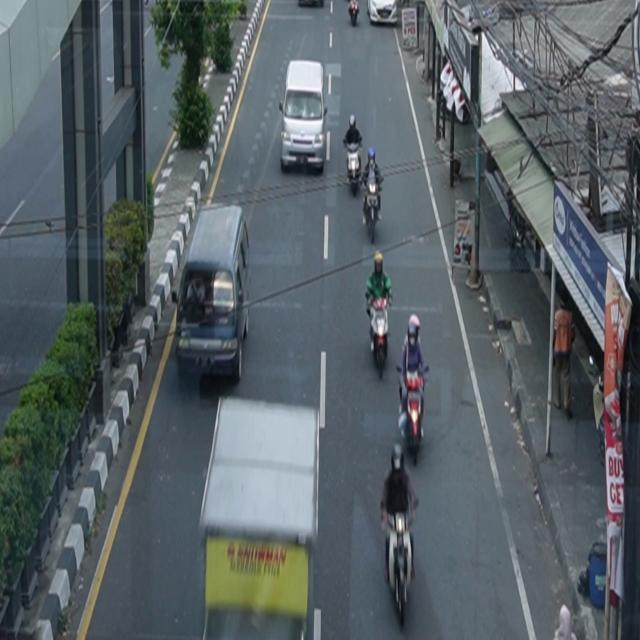car: (176, 204, 252, 384), (279, 60, 329, 174)
